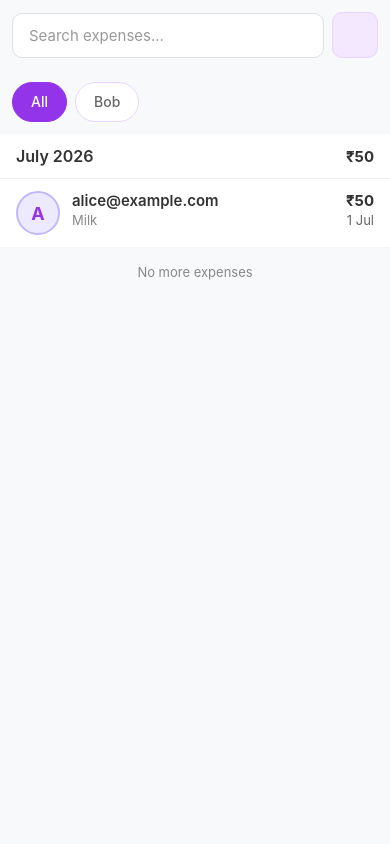
Test: ExpensesScreen edit/delete › locks an expense whose payer has left the room, and says why
Click the text "Milk".
click(85, 220)  # box [72,212,97,228]
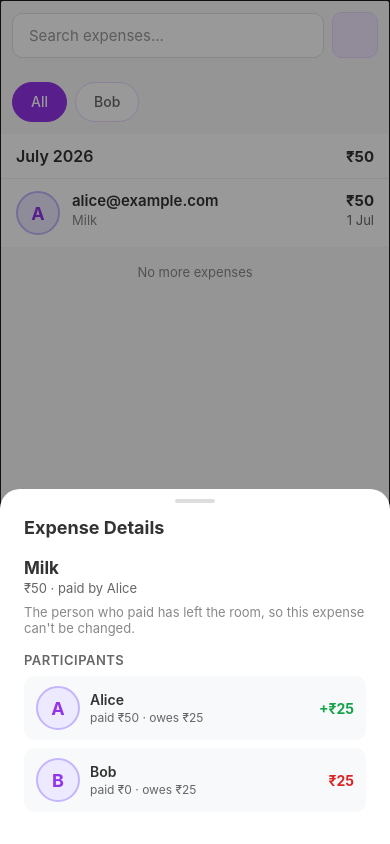
expect the text "₹50 · paid by Alice" is shown: met, box [24,580,137,596]
expect the text "The person who paid has left the room, so this expense can't be changed." is shown: met, box [24,604,366,636]
